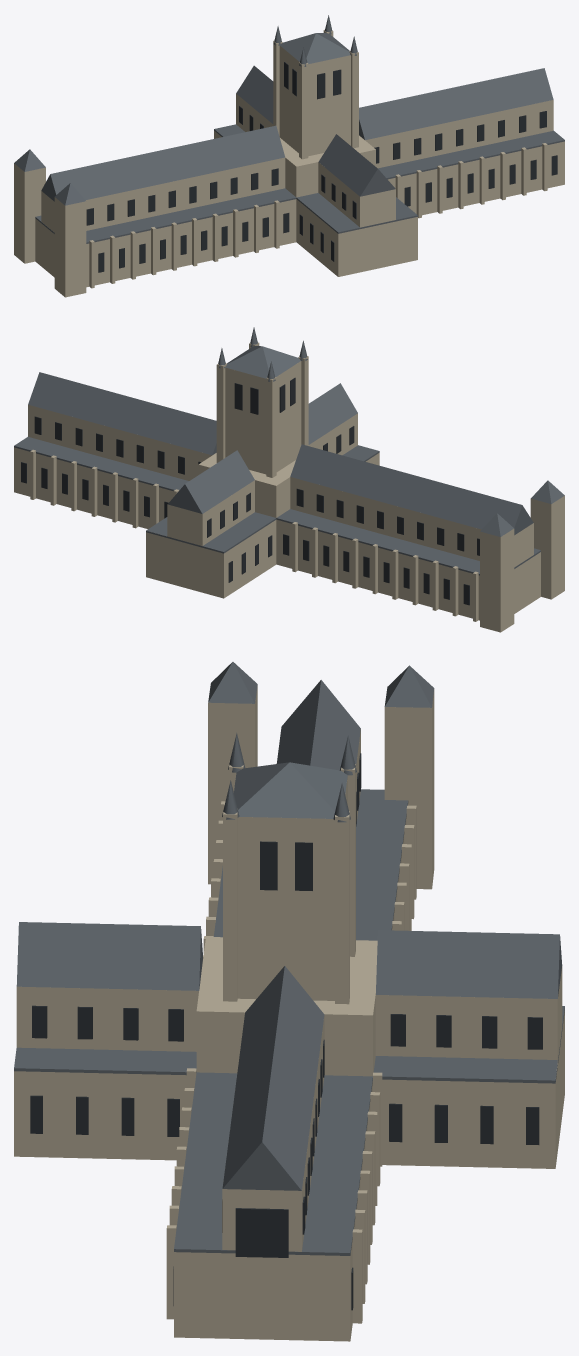
The model's file is st-pauls-site-b10.glb.
The picture shows the model from 3 angles, top to bottom: view 1: azimuth 30°, elevation 25°; view 2: azimuth 150°, elevation 25°; view 3: azimuth 270°, elevation 25°; orthographic projection. The views are drawn at different scales.
Size of the model in its own units: 192 by 68.97 by 93.49.
